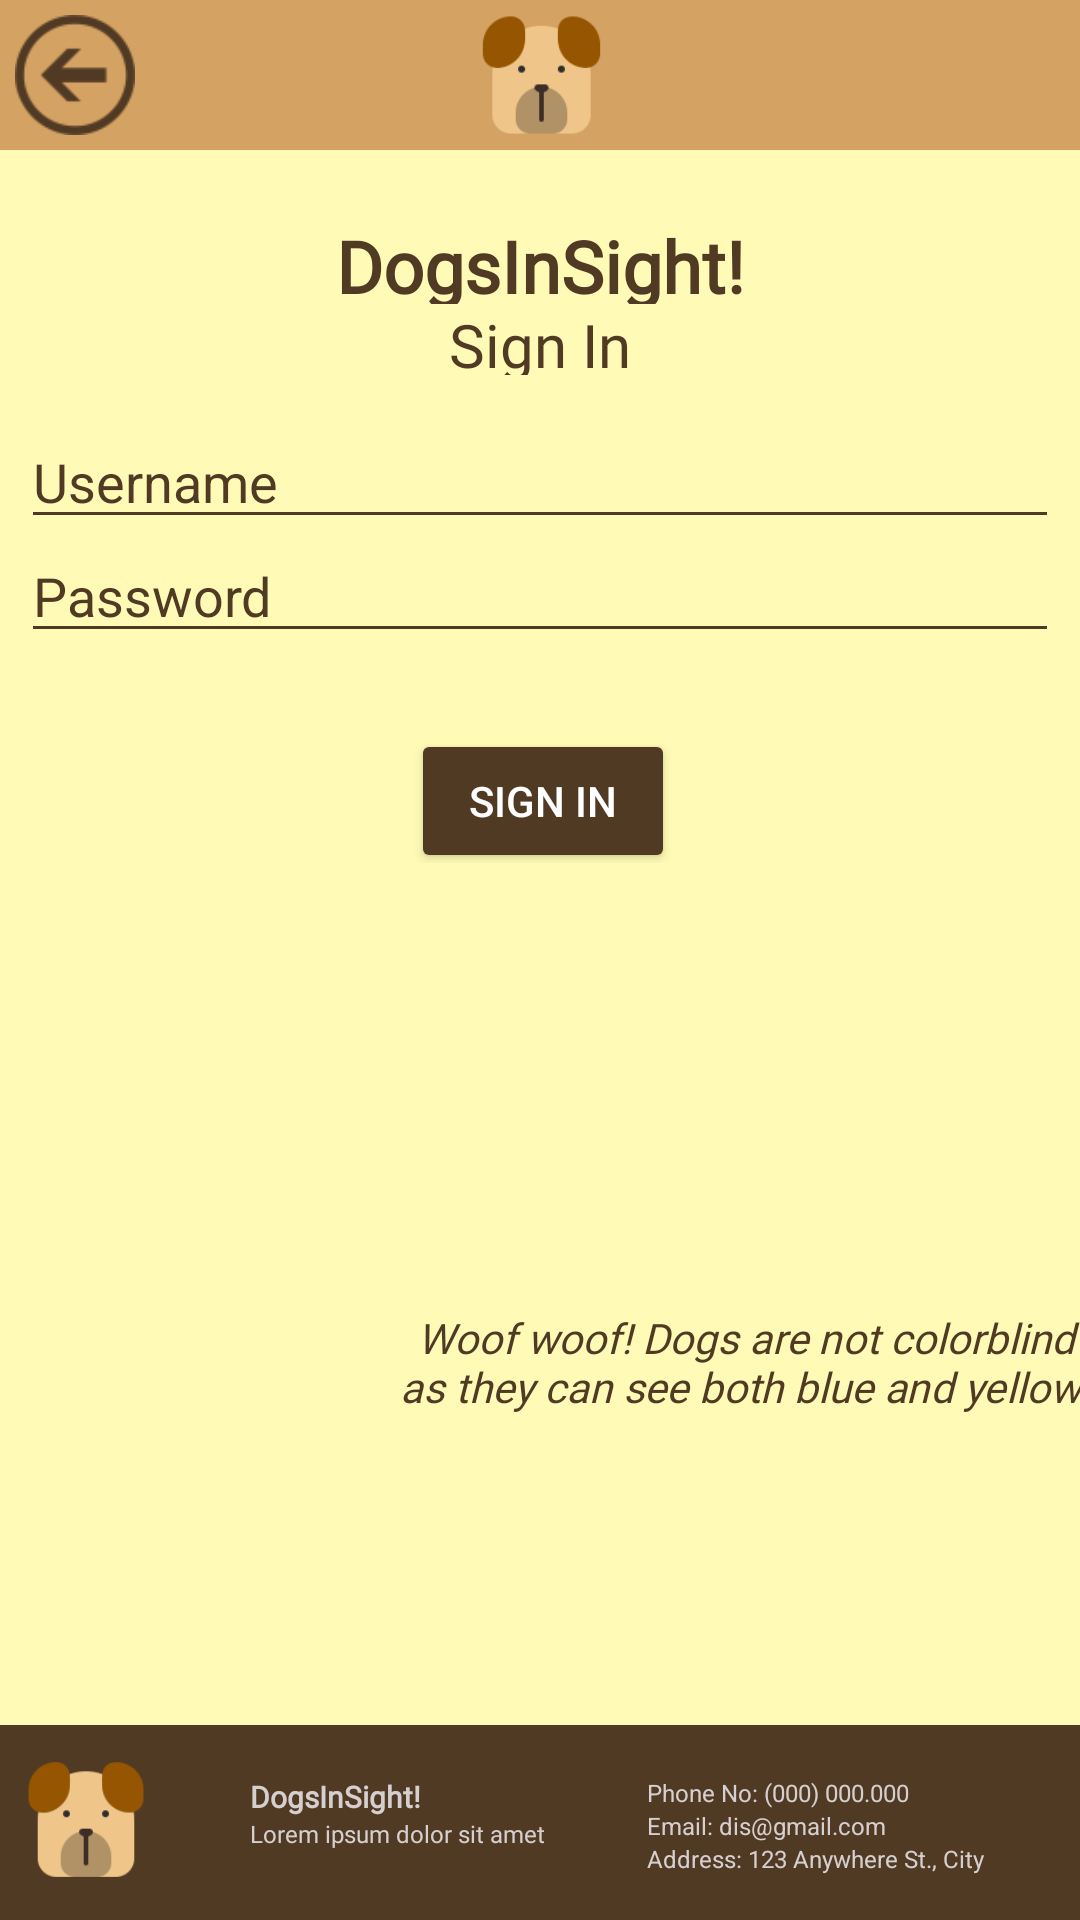

Screen size 1080 × 1920. Icon name, then its box in pixels as (x1, y1, x2, y2):
back: (15, 15, 135, 135)
